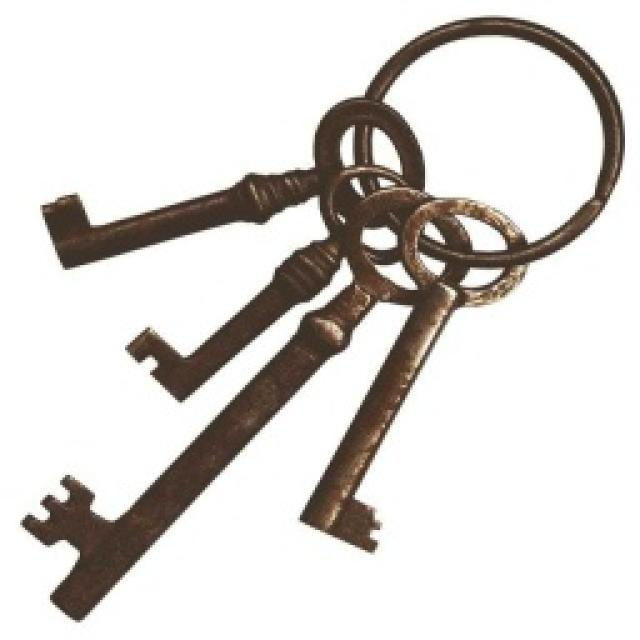anahtar: (35, 94, 457, 274)
